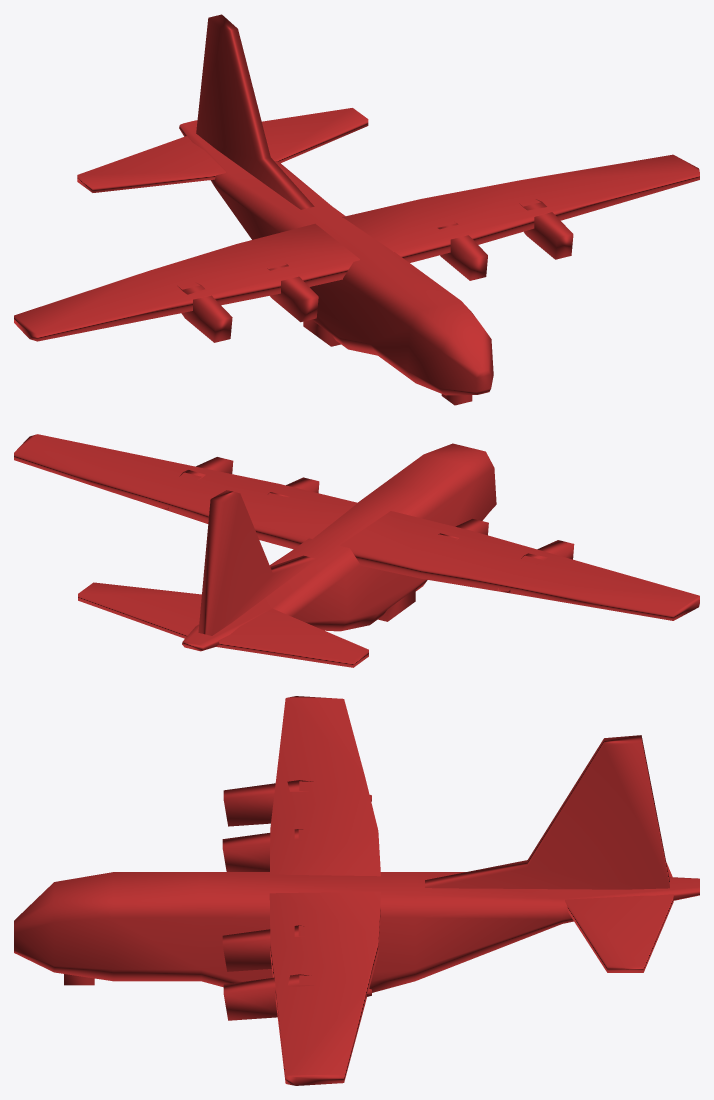
Rendered from frachtmaschine_antonov_colmesh.fbx.
The picture shows the model from 3 angles, top to bottom: view 1: azimuth 30°, elevation 25°; view 2: azimuth 150°, elevation 25°; view 3: azimuth 270°, elevation 25°; orthographic projection. The views are drawn at different scales.
Parts seen in each view (by area): view 1: body_main; view 2: body_main; view 3: body_main.
Part boxes in pixels (left/top/right/bottom): body_main: left=14, top=14, right=699, bottom=405; body_main: left=14, top=434, right=699, bottom=667; body_main: left=14, top=696, right=699, bottom=1085.
Bounding box in the file's own units: 3353 × 988 × 2549.
